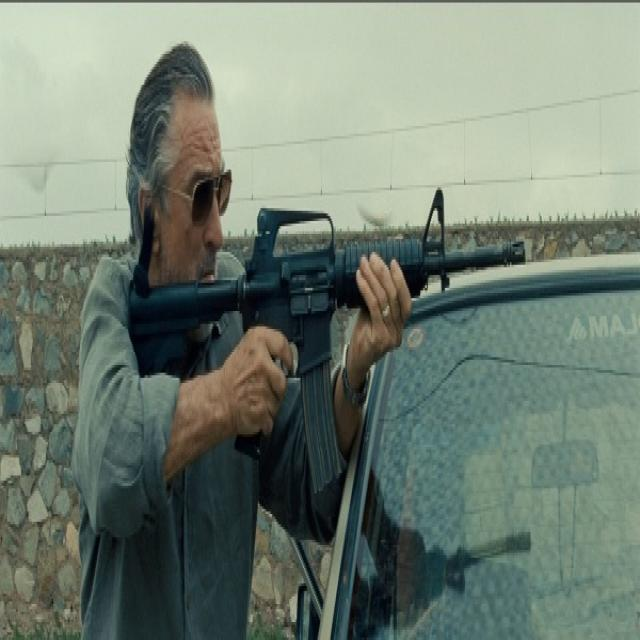rifle: (130, 188, 528, 494)
